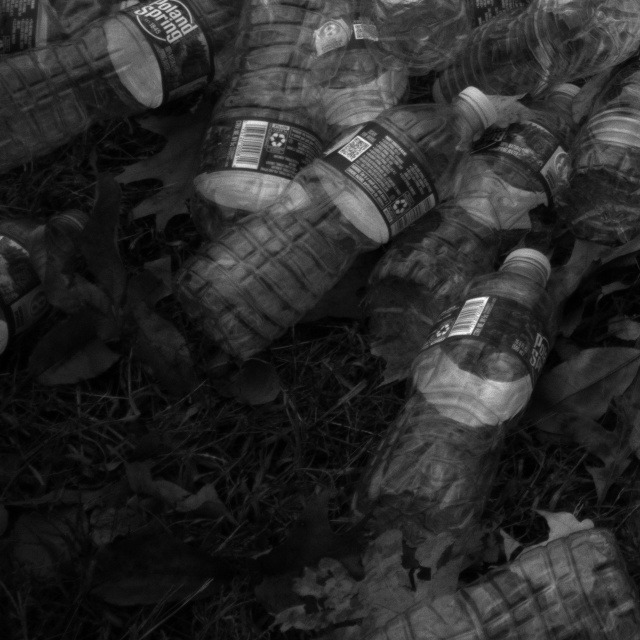bottle: (174, 79, 487, 364), (355, 236, 556, 548), (371, 79, 589, 346), (1, 0, 250, 186), (179, 0, 361, 250), (300, 534, 640, 640), (565, 60, 640, 255), (335, 0, 468, 69)
